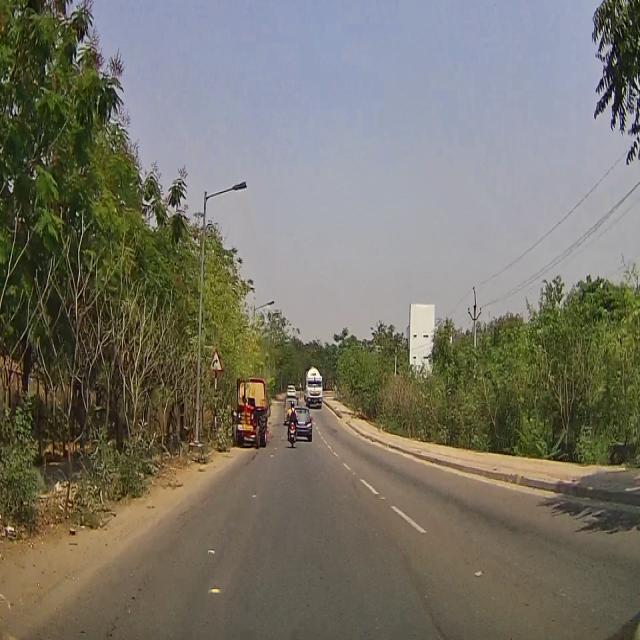right-hand-curve: (210, 347, 222, 369)
